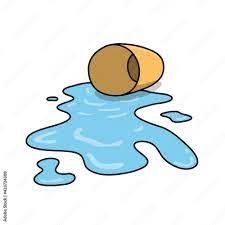Wet-floor: (24, 75, 203, 194)
